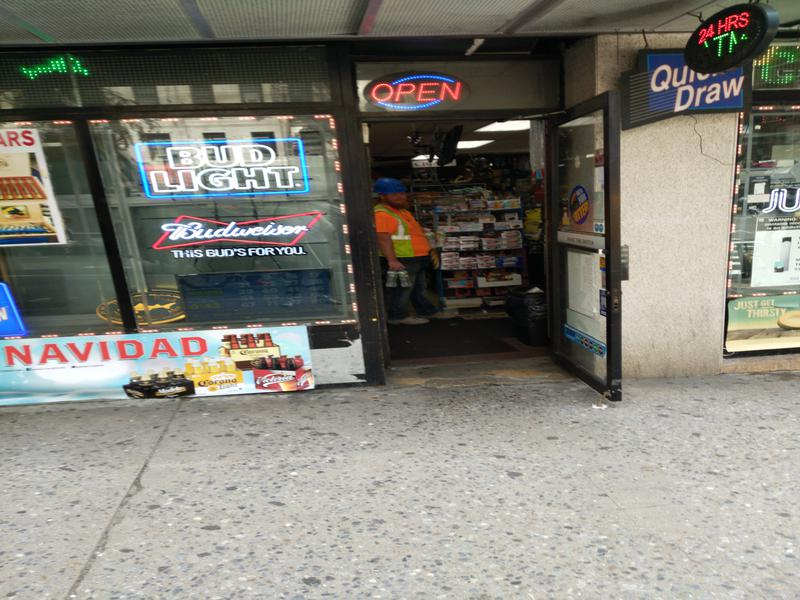door: (544, 89, 636, 413)
